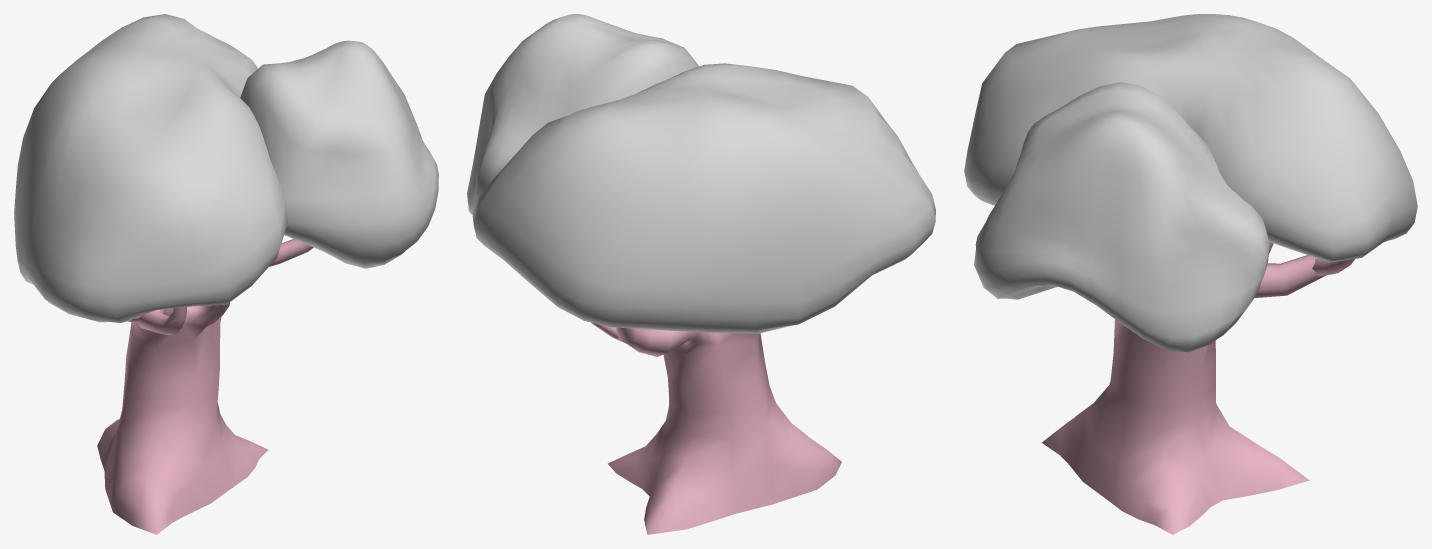
Rendered from Tree_05.fbx.
3 renders of one model, left to right at view 1: azimuth 30°, elevation 25°; view 2: azimuth 150°, elevation 25°; view 3: azimuth 270°, elevation 25°, orthographic. The views are drawn at different scales.
Visible parts, largest first — view 1: Tree_05L, Tree_05; view 2: Tree_05L, Tree_05; view 3: Tree_05L, Tree_05.
Boxes of the visible parts, x1,y1,x2,y2 form: Tree_05L: (14,14,438,322); Tree_05: (97,239,313,534); Tree_05L: (467,14,935,333); Tree_05: (591,322,841,534); Tree_05L: (964,14,1417,352); Tree_05: (1042,241,1354,534).
Size of the model in its own units: 564 by 543 by 497.
